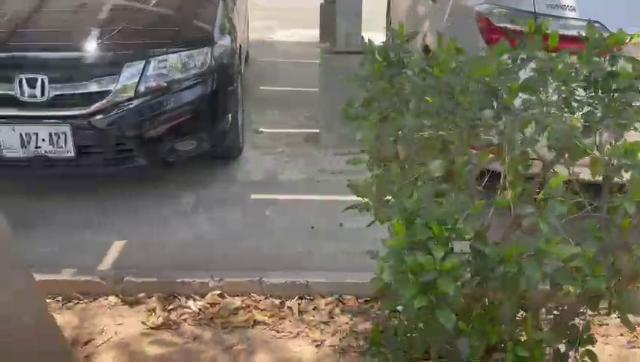plate: (0, 124, 78, 158)
